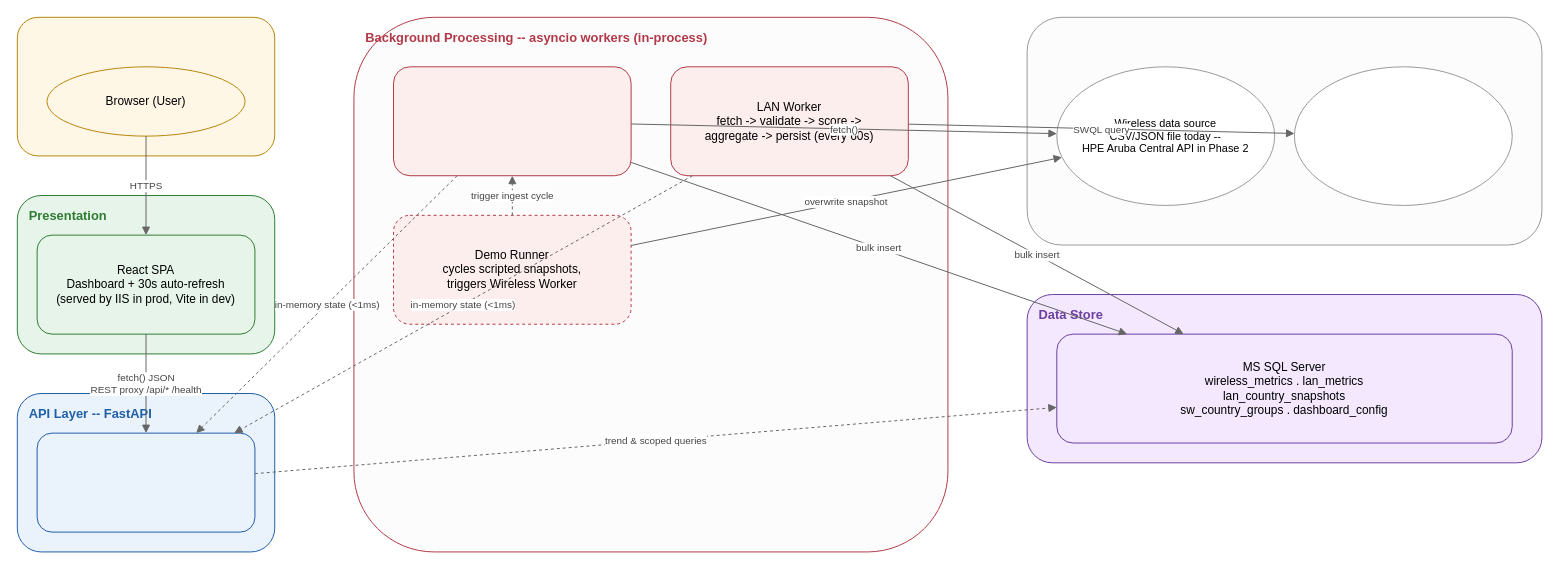
Image size: 1559x569. Some labels were removed from this diagram. Each missing label, with the box of its shape:
Client: (16, 16, 275, 156)
External Data Sources: (1026, 16, 1542, 245)
REST API /api/v1/wireless . /api/v1/lan /api/v1/demo . /health: (36, 432, 255, 532)
SolarWinds Orion SWIS REST API (SWQL): (1293, 66, 1512, 205)
Wireless Worker fetch -> validate -> score -> persist (every 60s / dev 10s): (393, 66, 631, 176)
